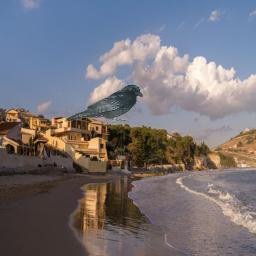Crow: (65, 84, 143, 122)
